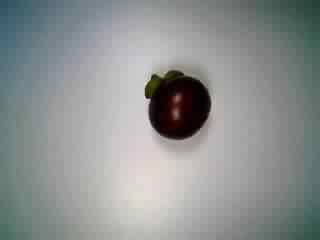mangosteen: (136, 62, 212, 141)
